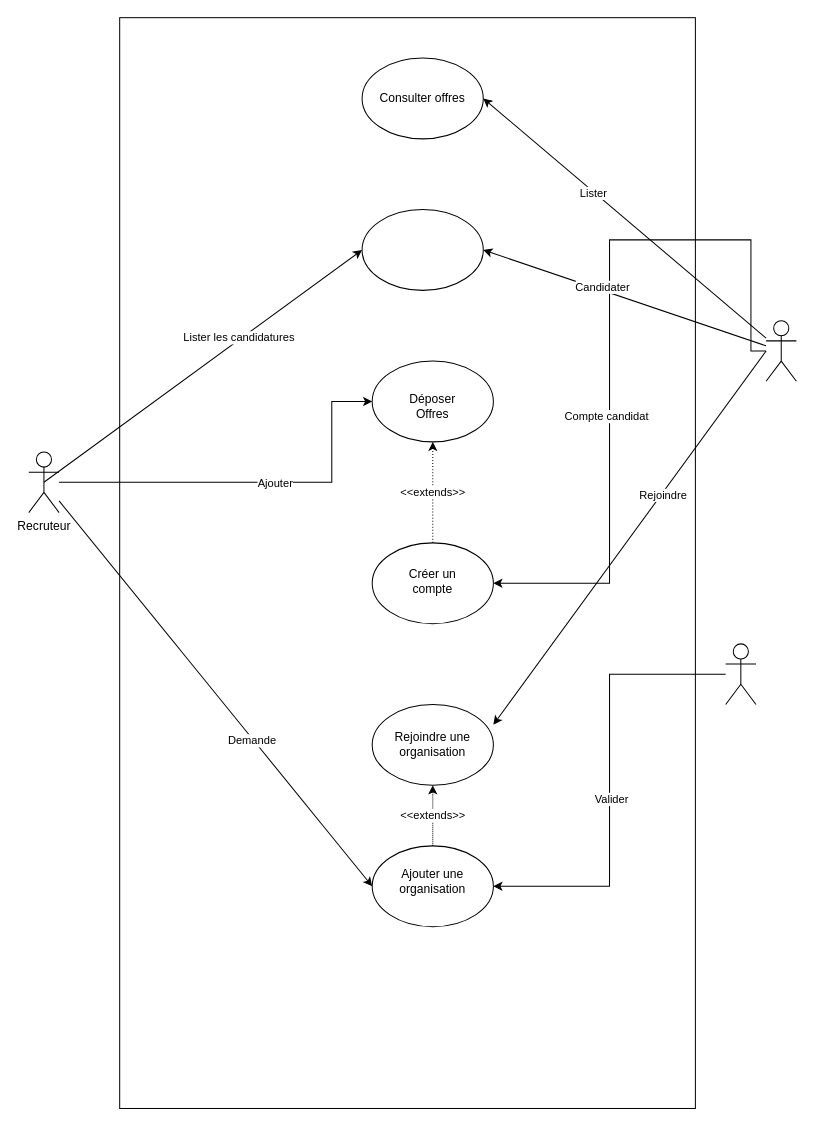
The diagram is 823 pixels wide and 1126 high, and some of its shapes have lost their labels. Each missing label, with the centre of its shape:
Administrateur: [740,673]
Candidat: [780,350]
Faire une candidature: [422,249]
